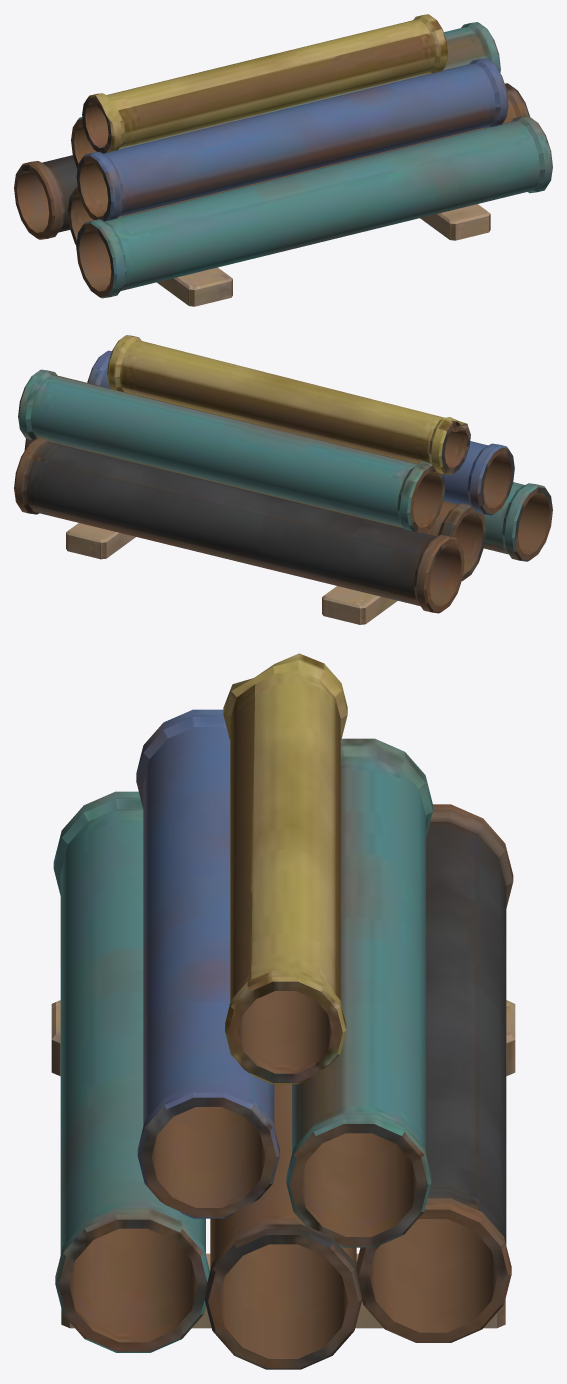
The model's file is CS18_pipes_stack.glb.
The picture shows the model from 3 angles, top to bottom: view 1: azimuth 30°, elevation 25°; view 2: azimuth 150°, elevation 25°; view 3: azimuth 270°, elevation 25°; orthographic projection. The views are drawn at different scales.
Visible parts, largest first — view 1: Pipe Stack; view 2: Pipe Stack; view 3: Pipe Stack.
Boxes of the visible parts, box(x1,y1,x2,y2) form: Pipe Stack: box(14, 14, 552, 306); Pipe Stack: box(14, 335, 552, 624); Pipe Stack: box(51, 653, 515, 1369).
Size of the model in its own units: 1.5 by 0.5501 by 0.664.
7 materials, 7 textured.
